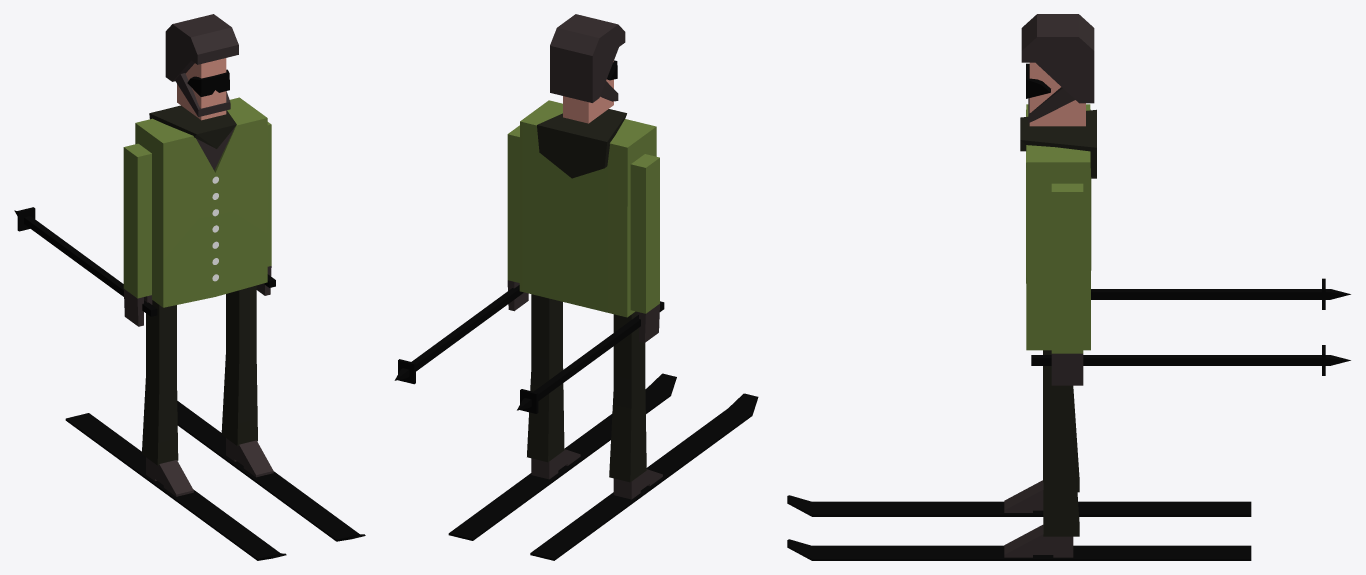
The model's file is skier1.fbx.
3 renders of one model, left to right at view 1: azimuth 30°, elevation 25°; view 2: azimuth 150°, elevation 25°; view 3: azimuth 270°, elevation 25°, orthographic. The views are drawn at different scales.
Parts seen in each view (by area): view 1: skier_1; view 2: skier_1; view 3: skier_1.
Part boxes in pixels (left/top/right/bottom): skier_1: left=14, top=14, right=365, bottom=560; skier_1: left=394, top=14, right=758, bottom=560; skier_1: left=787, top=14, right=1350, bottom=560.
Bounding box in the file's own units: 0.655 × 2.07 × 2.08.
